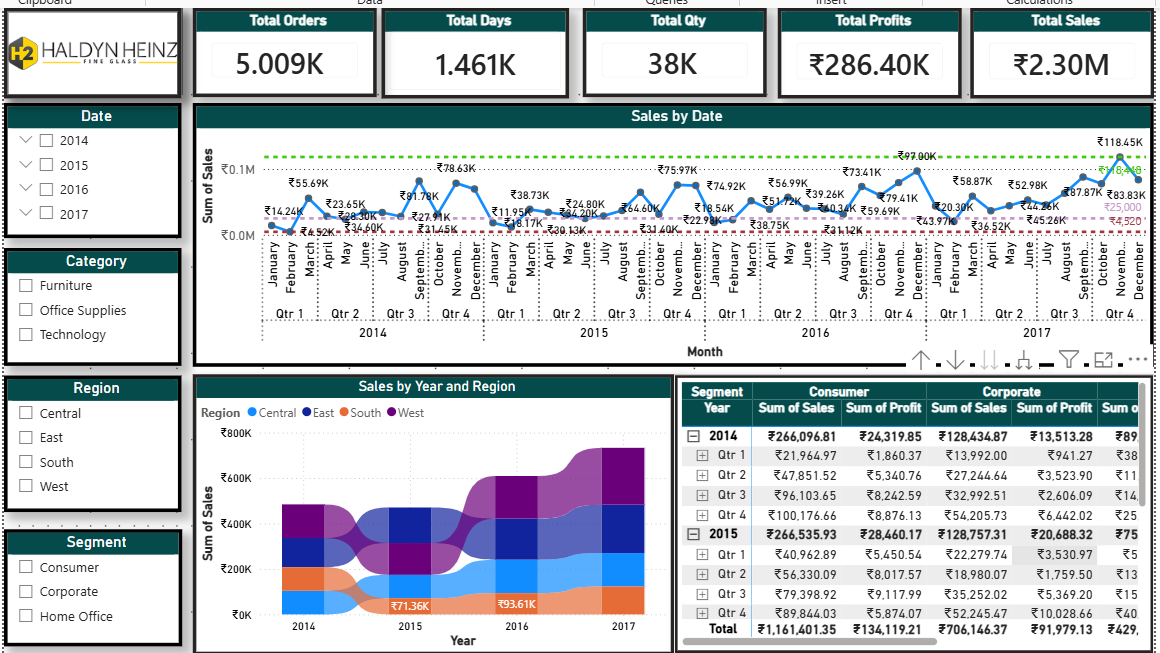

The dashboard page shown, as its layout file describes it:
{"tool":"powerbi","page":{"name":"Time Series Analysis","canvas":[1280,720],"ordinal":3},"visuals":[{"type":"image","box":[0,0,199.1,97.2],"z":0},{"type":"cardVisual","title":"Total Profits","fields":{"Data":["Sum(Orders.Profit)"]},"box":[861,0,205,100.7],"z":1000},{"type":"cardVisual","title":"Total Qty","fields":{"Data":["Sum(Orders.Quantity)"]},"box":[644,0.6,205,99.6],"z":2000},{"type":"cardVisual","title":"Total Days","fields":{"Data":["CountNonNull(Orders.Order Date.Variation.Date Hierarchy.Day)"]},"box":[420,0,209,100.7],"z":3000},{"type":"cardVisual","title":"Total Orders","fields":{"Data":["Count(Orders.Order ID)"]},"box":[209.9,0.6,205,99.6],"z":4000},{"type":"cardVisual","title":"Total Sales","fields":{"Data":["Sum(Orders.Sales)"]},"box":[1075,0,205,100.7],"z":5000},{"type":"slicer","title":"Date","fields":{"Values":["Orders.Order Date.Variation.Date Hierarchy.Year","Orders.Order Date.Variation.Date Hierarchy.Quarter","Orders.Order Date.Variation.Date Hierarchy.Month","Orders.Order Date.Variation.Date Hierarchy.Day"]},"box":[0,106.4,197.9,150.5],"z":6000},{"type":"slicer","title":"Category","fields":{"Values":["Orders.Category"]},"box":[0,266.9,197.9,131.6],"z":7000},{"type":"slicer","title":"Region","fields":{"Values":["Orders.Region"]},"box":[0,408.4,197.9,151.7],"z":8000},{"type":"slicer","title":"Segment","fields":{"Values":["Orders.Segment"]},"box":[0,580,198,130],"z":9000},{"type":"lineChart","title":"Sales by Date","fields":{"Category":["Orders.Order Date.Variation.Date Hierarchy.Year","Orders.Order Date.Variation.Date Hierarchy.Quarter","Orders.Order Date.Variation.Date Hierarchy.Month","Orders.Order Date.Variation.Date Hierarchy.Day"],"Y":["Sum(Orders.Sales)"]},"box":[210.1,105.7,1069.9,293.6],"z":10000},{"type":"ribbonChart","title":"Sales by Year and Region","fields":{"Category":["Orders.Order Date.Variation.Date Hierarchy.Year"],"Y":["Sum(Orders.Sales)"],"Series":["Orders.Region"]},"box":[210.1,407.7,535.7,313],"z":11000},{"type":"pivotTable","fields":{"Rows":["Orders.Order Date.Variation.Date Hierarchy.Year","Orders.Order Date.Variation.Date Hierarchy.Quarter","Orders.Order Date.Variation.Date Hierarchy.Month","Orders.Order Date.Variation.Date Hierarchy.Day"],"Values":["Sum(Orders.Sales)","Sum(Orders.Profit)"],"Columns":["Orders.Segment"]},"box":[745.8,408.3,534.7,311.1],"z":12000},{"type":"image","box":[0,0,197.9,100.7],"z":13000}]}

Visuals, with their boxes on the page's 1280x720 design canvas (x1, y1, x2, y2). These are canvas units, not pixel positions in the 1160x653 screenshot, which may show the page scaled, cropped or inside an application window:
image: pyautogui.locateOnScreen(0, 0, 199, 97)
"Total Profits" cardVisual: pyautogui.locateOnScreen(861, 0, 1066, 101)
"Total Qty" cardVisual: pyautogui.locateOnScreen(644, 1, 849, 100)
"Total Days" cardVisual: pyautogui.locateOnScreen(420, 0, 629, 101)
"Total Orders" cardVisual: pyautogui.locateOnScreen(210, 1, 415, 100)
"Total Sales" cardVisual: pyautogui.locateOnScreen(1075, 0, 1280, 101)
"Date" slicer: pyautogui.locateOnScreen(0, 106, 198, 257)
"Category" slicer: pyautogui.locateOnScreen(0, 267, 198, 398)
"Region" slicer: pyautogui.locateOnScreen(0, 408, 198, 560)
"Segment" slicer: pyautogui.locateOnScreen(0, 580, 198, 710)
"Sales by Date" lineChart: pyautogui.locateOnScreen(210, 106, 1280, 399)
"Sales by Year and Region" ribbonChart: pyautogui.locateOnScreen(210, 408, 746, 721)
pivotTable - Orders.Order Date.Variation.Date Hierarchy.Year x Orders.Order Date.Variation.Date Hierarchy.Quarter: pyautogui.locateOnScreen(746, 408, 1280, 719)
image: pyautogui.locateOnScreen(0, 0, 198, 101)
